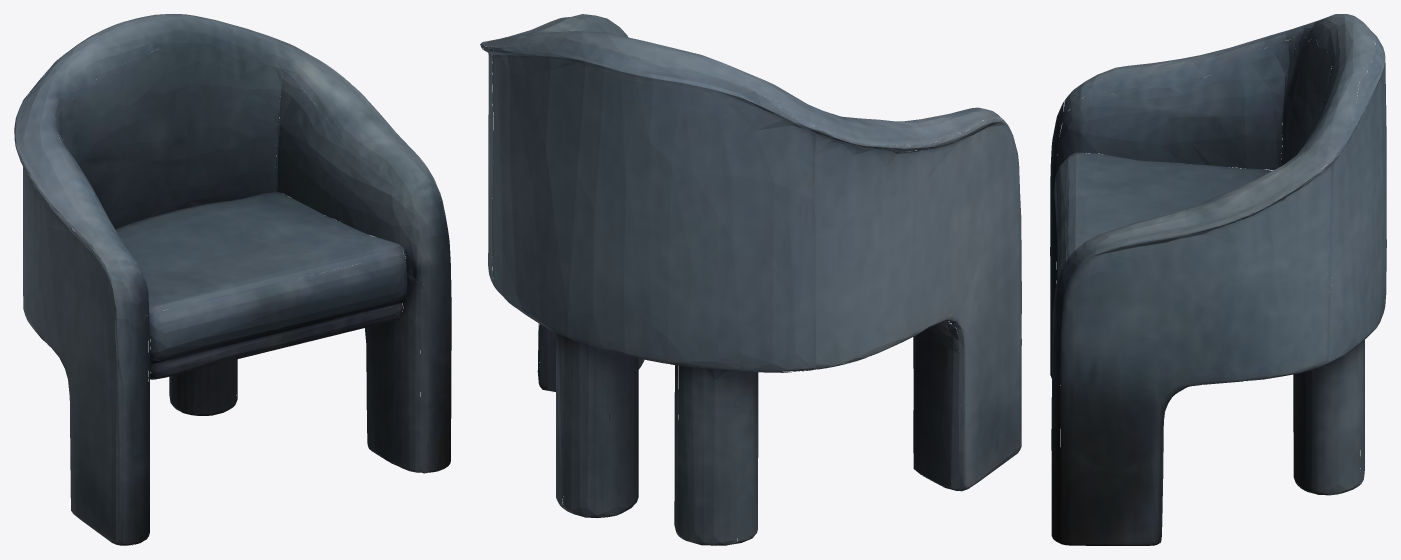
Rendered from armchair-grey.glb.
3 renders of one model, left to right at view 1: azimuth 30°, elevation 25°; view 2: azimuth 150°, elevation 25°; view 3: azimuth 270°, elevation 25°, orthographic. The views are drawn at different scales.
Parts seen in each view (by area): view 1: geometry_0; view 2: geometry_0; view 3: geometry_0.
Part boxes in pixels (x1,y1,x2,y2): geometry_0: (14, 14, 451, 545); geometry_0: (480, 14, 1021, 545); geometry_0: (1050, 14, 1386, 545).
Size of the model in its own units: 0.9233 by 1 by 0.7387.
Materials: 1 (1 with a texture image).
